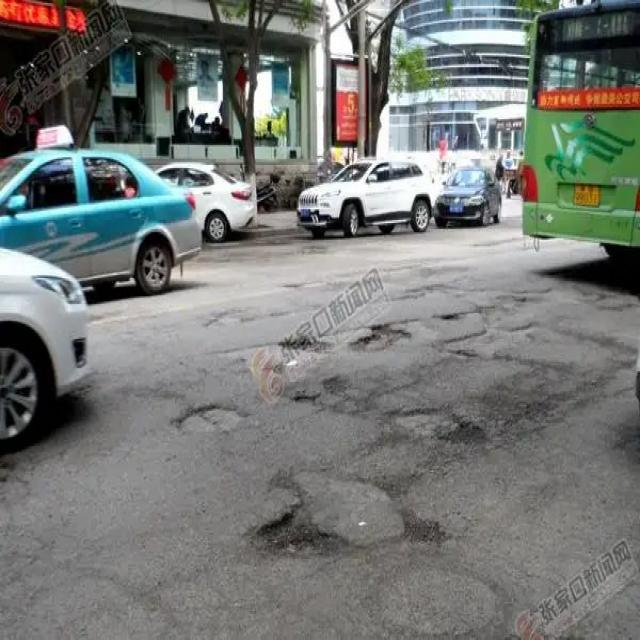Pothole: (246, 466, 446, 560), (392, 399, 490, 452), (173, 402, 245, 440), (280, 336, 335, 361), (351, 326, 412, 348), (288, 389, 320, 406), (444, 344, 480, 359), (429, 312, 478, 322)
